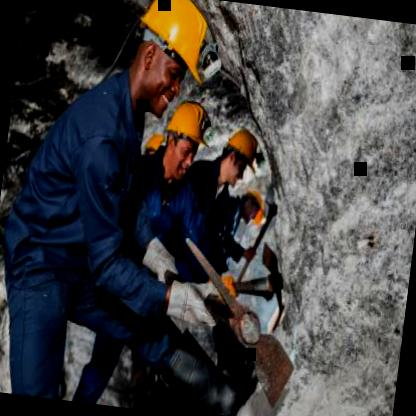helmet: (115, 0, 218, 127), (158, 92, 212, 181), (214, 122, 261, 188), (239, 185, 267, 224), (144, 130, 166, 158)
